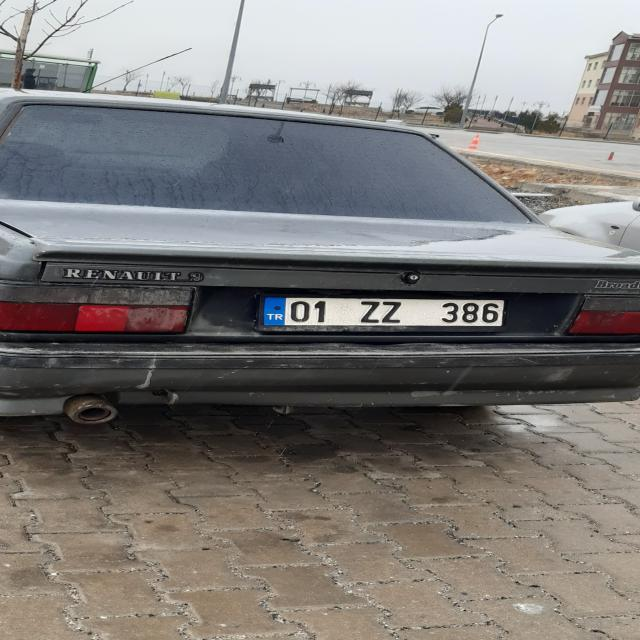plate: (261, 296, 506, 326)
